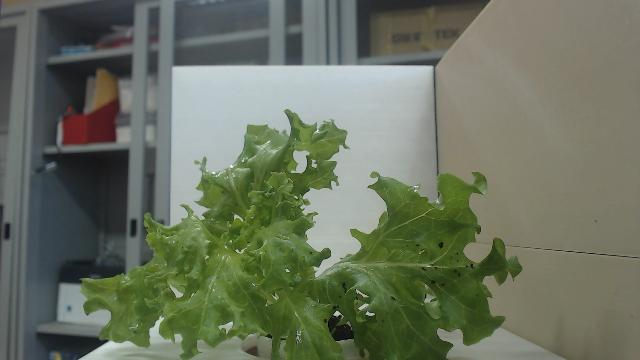Harvest Stage: (78, 108, 524, 360)
